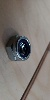Nut: (5, 33, 33, 64)
